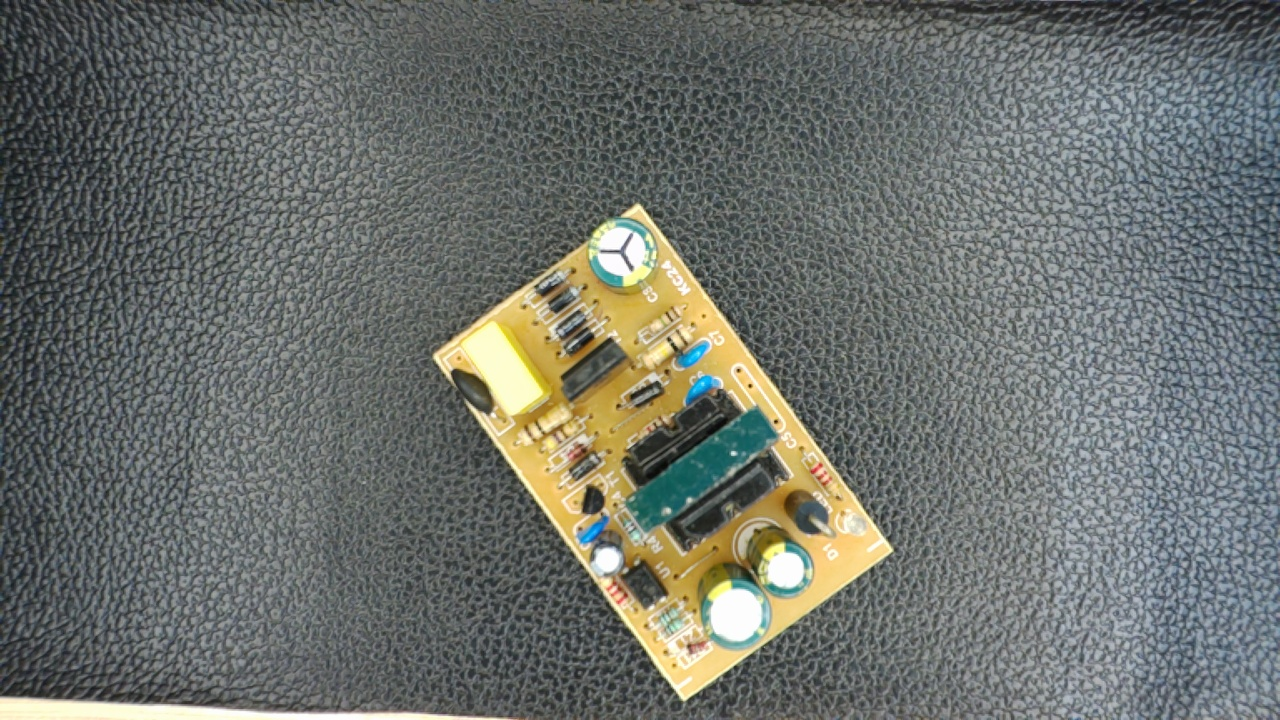fuse: (444, 359, 498, 423)
hv_capacitor: (585, 218, 662, 296)
optocoupler: (615, 552, 671, 612)
